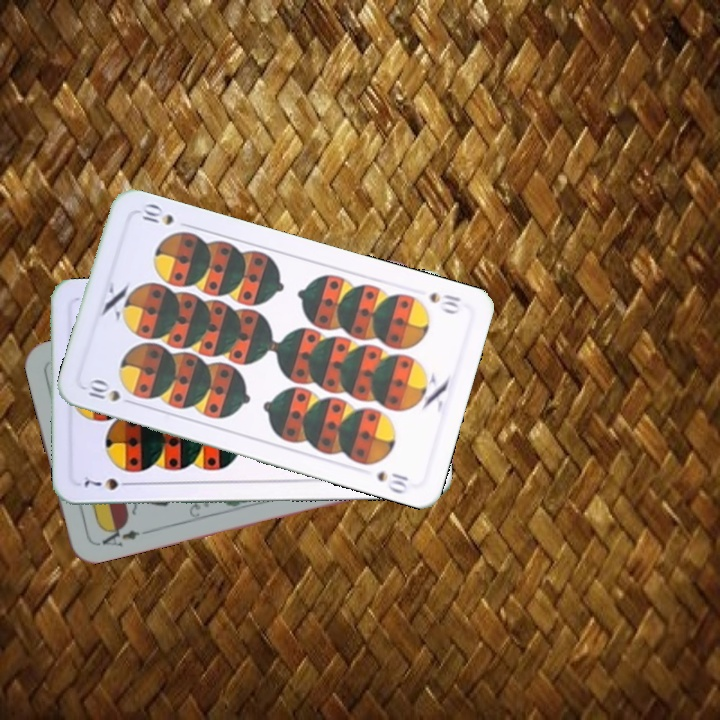EA: (92, 520, 142, 549)
S10: (81, 376, 138, 408), (425, 288, 464, 317)
S7: (80, 472, 136, 493)
